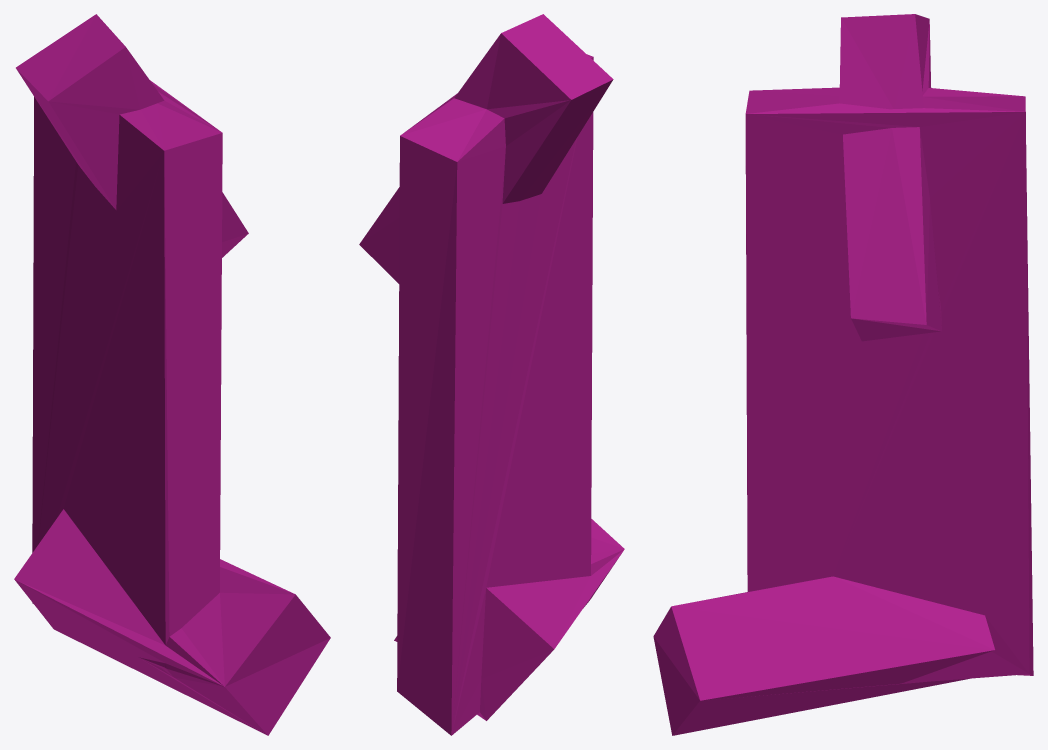
3 renders of one model, left to right at view 1: azimuth 30°, elevation 25°; view 2: azimuth 150°, elevation 25°; view 3: azimuth 270°, elevation 25°, orthographic. The views are drawn at different scales.
Parts seen in each view (by area): view 1: 020_Cube.093; view 2: 020_Cube.093; view 3: 020_Cube.093.
Part boxes in pixels (left/top/right/bottom): 020_Cube.093: left=14, top=14, right=330, bottom=735; 020_Cube.093: left=359, top=14, right=624, bottom=735; 020_Cube.093: left=653, top=14, right=1033, bottom=735.
Bounding box in the file's own units: 4.95 × 14.63 × 7.28.
